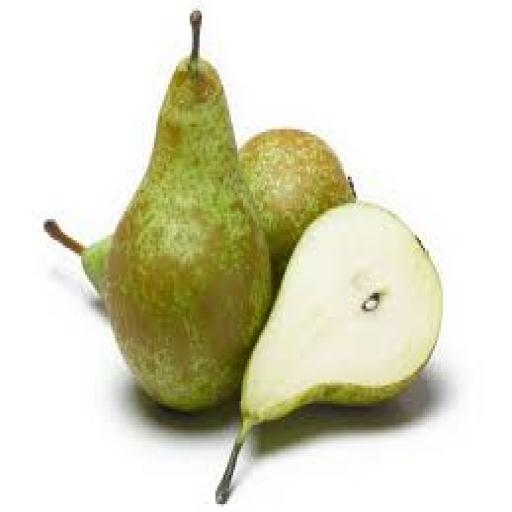Pear: (218, 204, 442, 504), (105, 11, 272, 411), (240, 130, 355, 282), (44, 220, 110, 295)
